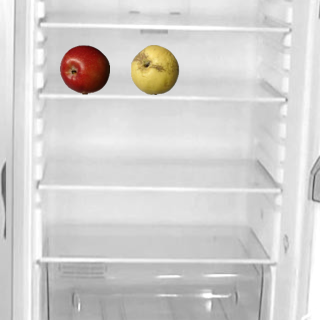Apple Braeburn: (59, 44, 109, 94)
Apple Golden 1: (129, 44, 179, 94)
